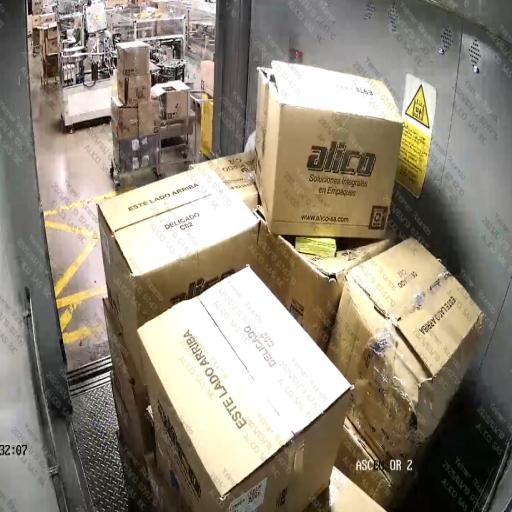Rollos sin amarrar: (101, 53, 478, 512)
